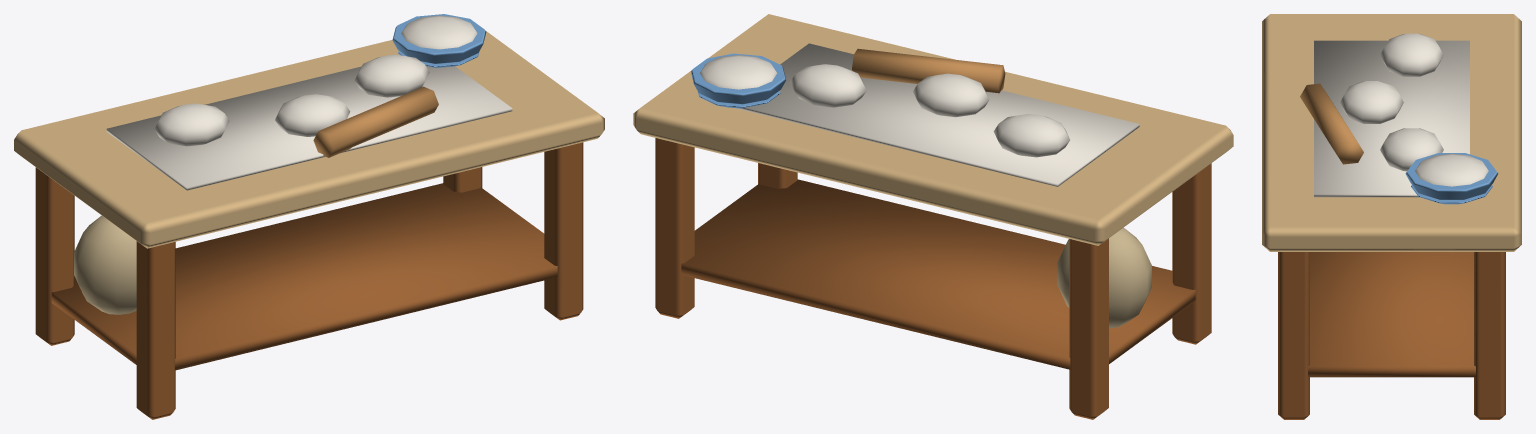
Rendered from dough_table.glb.
3 renders of one model, left to right at view 1: azimuth 30°, elevation 25°; view 2: azimuth 150°, elevation 25°; view 3: azimuth 270°, elevation 25°, orthographic. The views are drawn at different scales.
Visible parts, largest first — view 1: dough_table; view 2: dough_table; view 3: dough_table.
Boxes of the visible parts, x1,y1,x2,y2 form: dough_table: [14, 14, 604, 419]; dough_table: [633, 14, 1233, 419]; dough_table: [1262, 14, 1521, 419].
Size of the model in its own units: 1.3 by 0.645 by 0.65.
